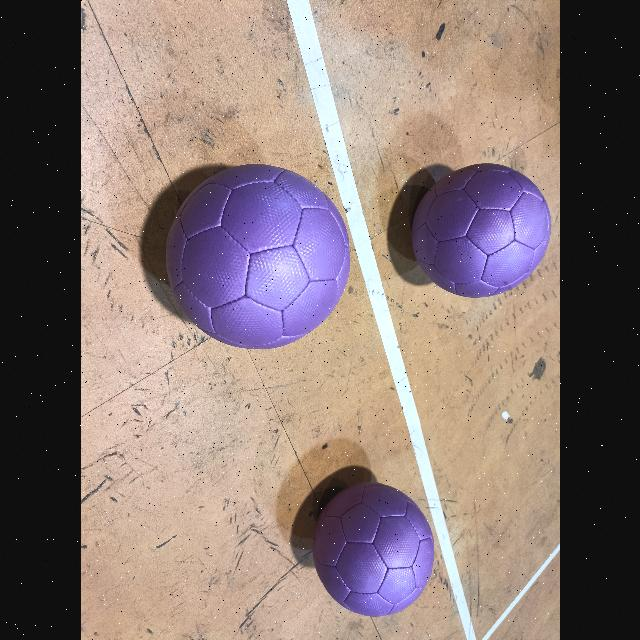P: (166, 164, 350, 348), (411, 165, 551, 298), (314, 482, 434, 616)
